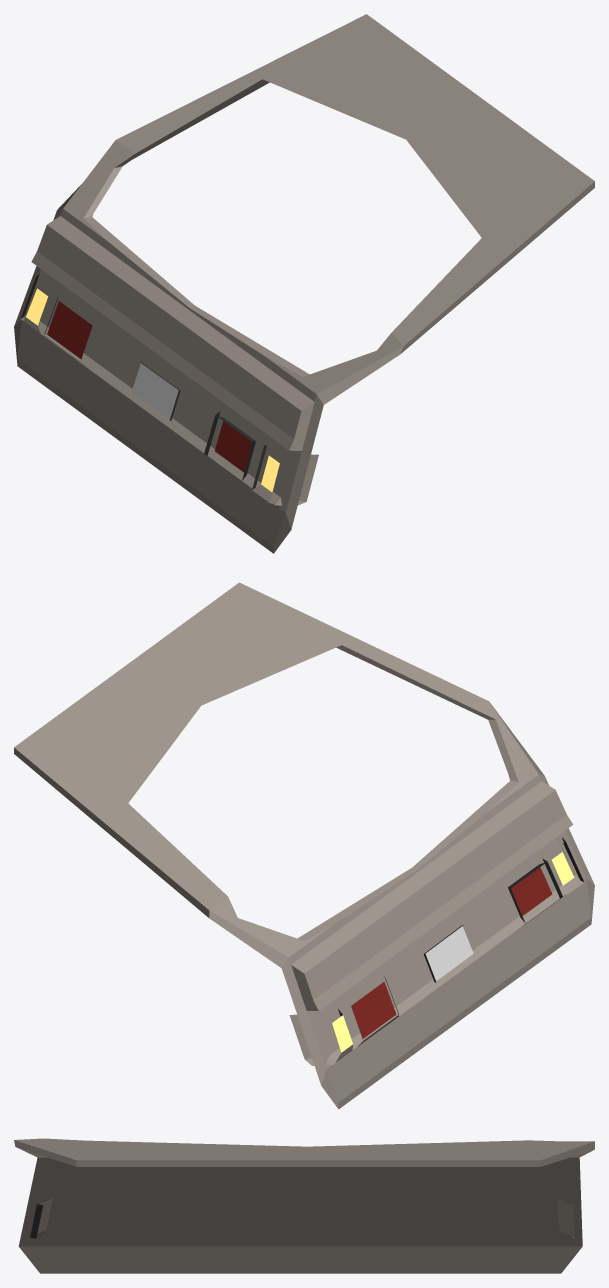
File: Trunk.fbx
The picture shows the model from 3 angles, top to bottom: view 1: azimuth 30°, elevation 25°; view 2: azimuth 150°, elevation 25°; view 3: azimuth 270°, elevation 25°; orthographic projection. The views are drawn at different scales.
Parts seen in each view (by area): view 1: Trunk; view 2: Trunk; view 3: Trunk.
Boxes of the visible parts, x1,y1,x2,y2 form: Trunk: [14, 14, 594, 553]; Trunk: [14, 582, 594, 1109]; Trunk: [14, 1138, 594, 1273].
Bounding box in the file's own units: 90.49 × 70.28 × 131.
